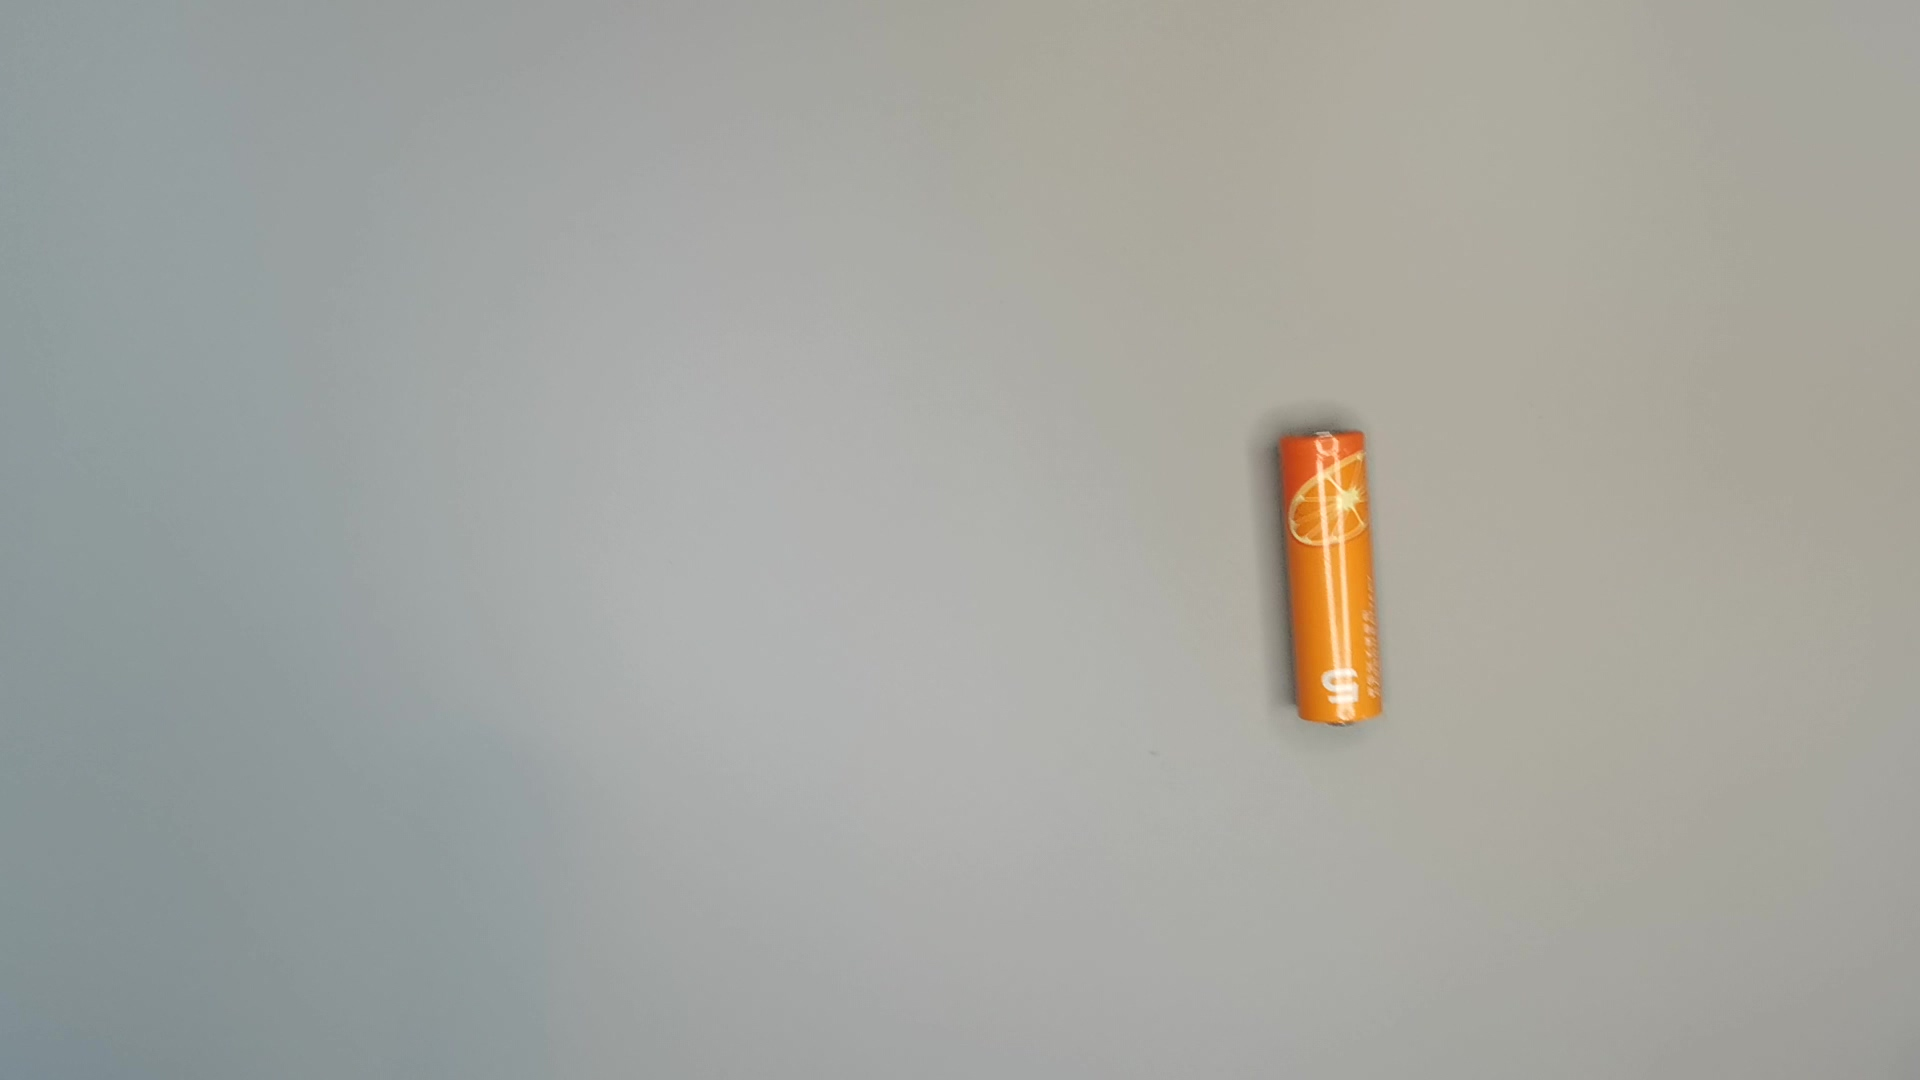battery: (1273, 422, 1393, 732)
